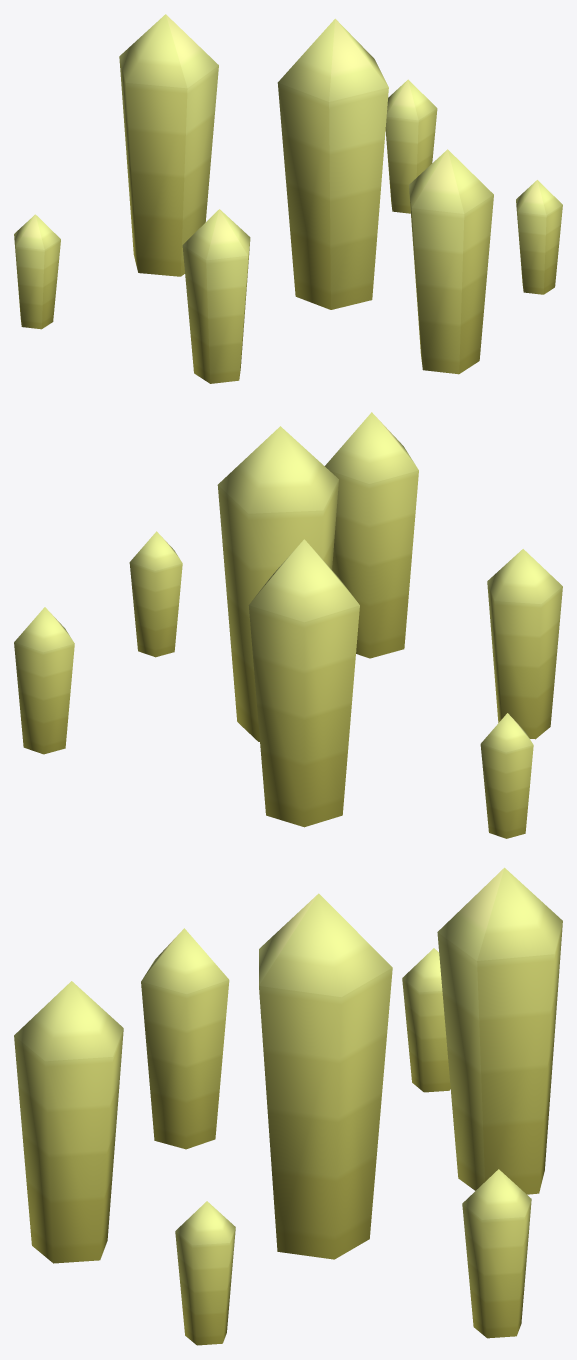
File: plant_004.fbx
The picture shows the model from 3 angles, top to bottom: view 1: azimuth 30°, elevation 25°; view 2: azimuth 150°, elevation 25°; view 3: azimuth 270°, elevation 25°; orthographic projection. The views are drawn at different scales.
Visible parts, largest first — view 1: plant.004; view 2: plant.004; view 3: plant.004.
Part boxes in pixels (x1,y1,x2,y2): plant.004: (14,14,562,383); plant.004: (14,412,562,838); plant.004: (14,867,562,1345).
Bounding box in the file's own units: 10.01 × 5.81 × 8.33.
